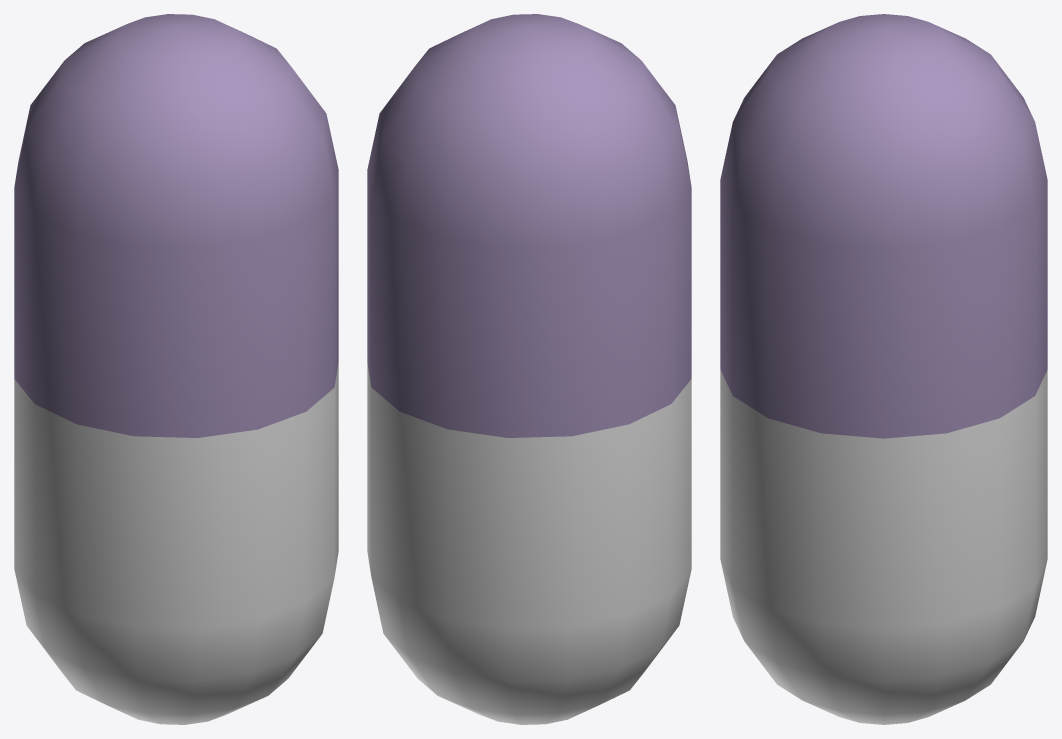
The model's file is PillUpdate.fbx.
3 renders of one model, left to right at view 1: azimuth 30°, elevation 25°; view 2: azimuth 150°, elevation 25°; view 3: azimuth 270°, elevation 25°, orthographic.
Visible parts, largest first — view 1: Sphere, Sphere.001; view 2: Sphere, Sphere.001; view 3: Sphere, Sphere.001.
Part boxes in pixels (box(x1,y1,x2,y2)): Sphere: box(14, 14, 338, 437); Sphere.001: box(14, 363, 338, 724); Sphere: box(367, 14, 691, 437); Sphere.001: box(367, 363, 691, 724); Sphere: box(720, 14, 1047, 438); Sphere.001: box(720, 370, 1047, 724).
Size of the model in its own units: 82.48 by 189 by 82.48.
